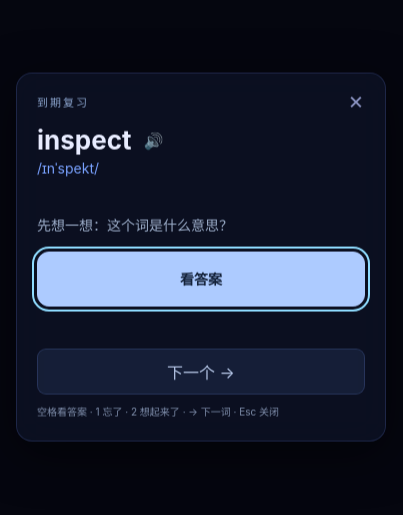
词卡导航与学习闭环 › 到期复习答完最后一词显示完成，不跳入未背的新词
Step 1. Click the button "看答案" → (201,279), box [37, 252, 365, 307]
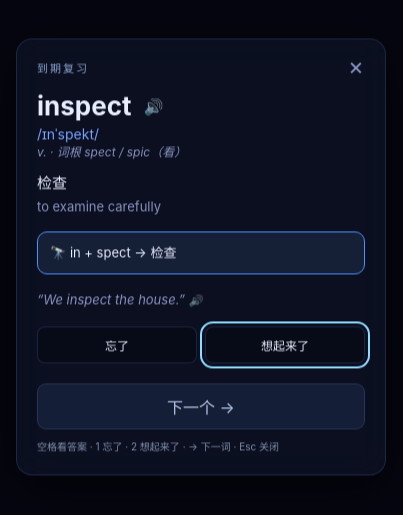
Step 2. Click the button "想起来了" → (285,345), box [205, 326, 365, 363]
Wait 600 ms
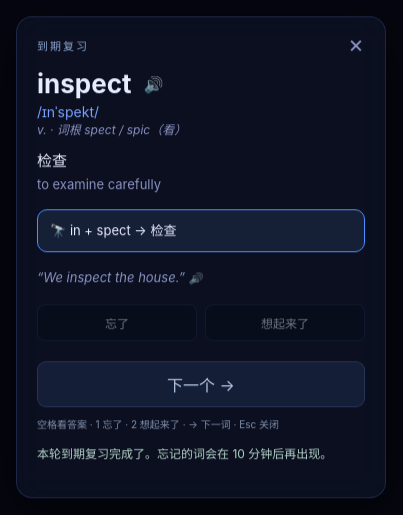
Expected: the text "本轮到期复习完成了" is shown, [37, 446, 332, 461]
